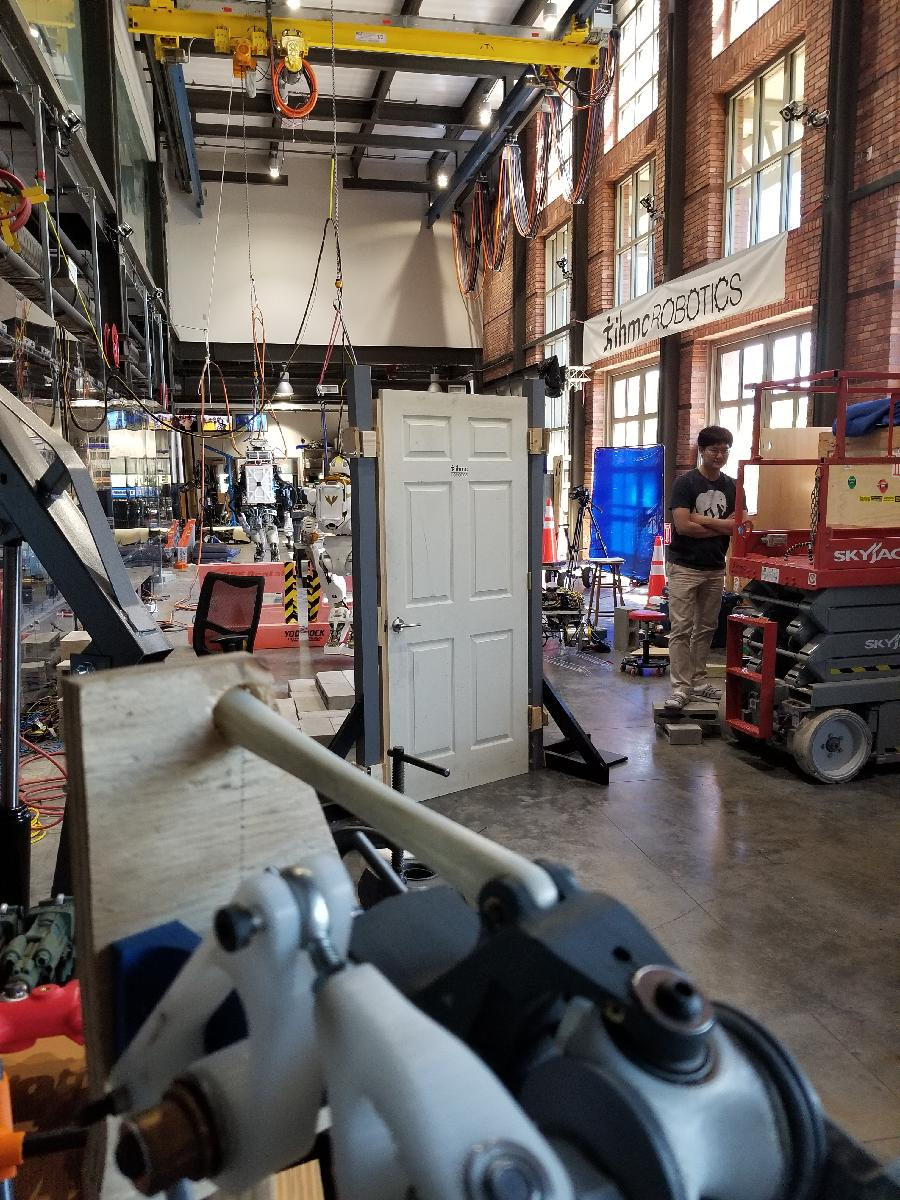door: (378, 387, 535, 813)
doorHandle: (389, 612, 428, 642)
